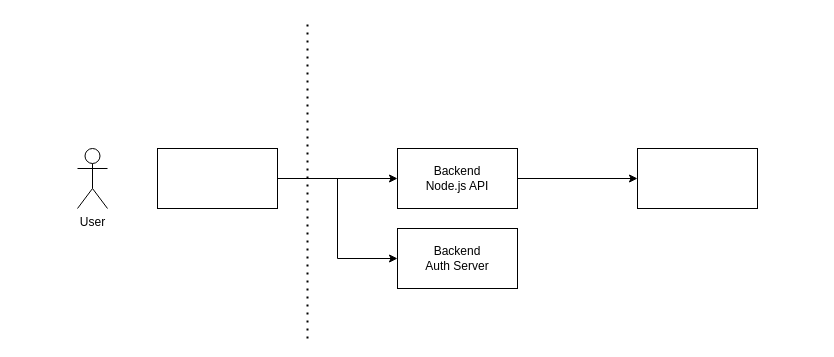
The diagram is 834 pixels wide and 357 high, and some of its shapes have lost their labels. The box of each missing label's shape, as (x1, y1, x2, y2) in pixels:
Frontend Angular Web App: (156, 148, 278, 208)
mongoDB: (636, 148, 758, 208)
